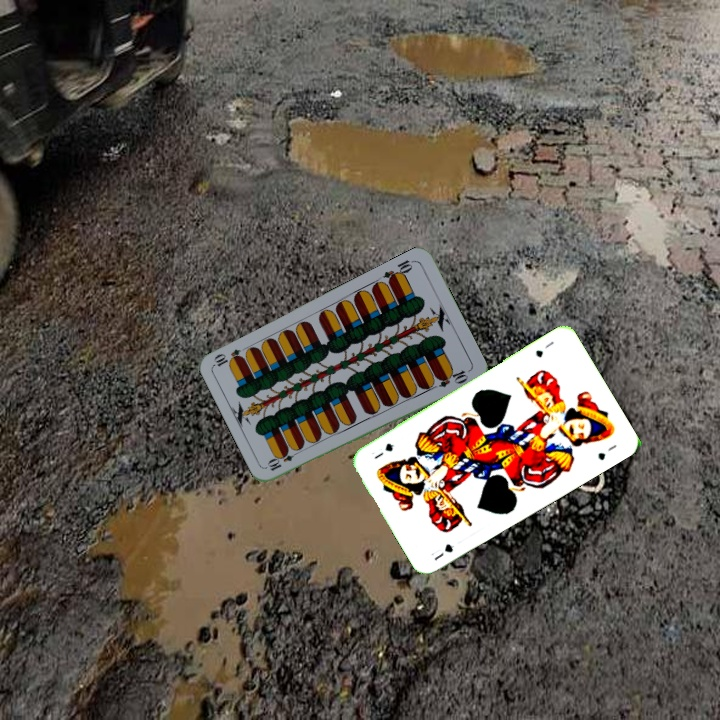E10: (379, 256, 417, 286), (264, 446, 302, 474)
GU: (427, 540, 456, 563), (531, 337, 557, 360)
